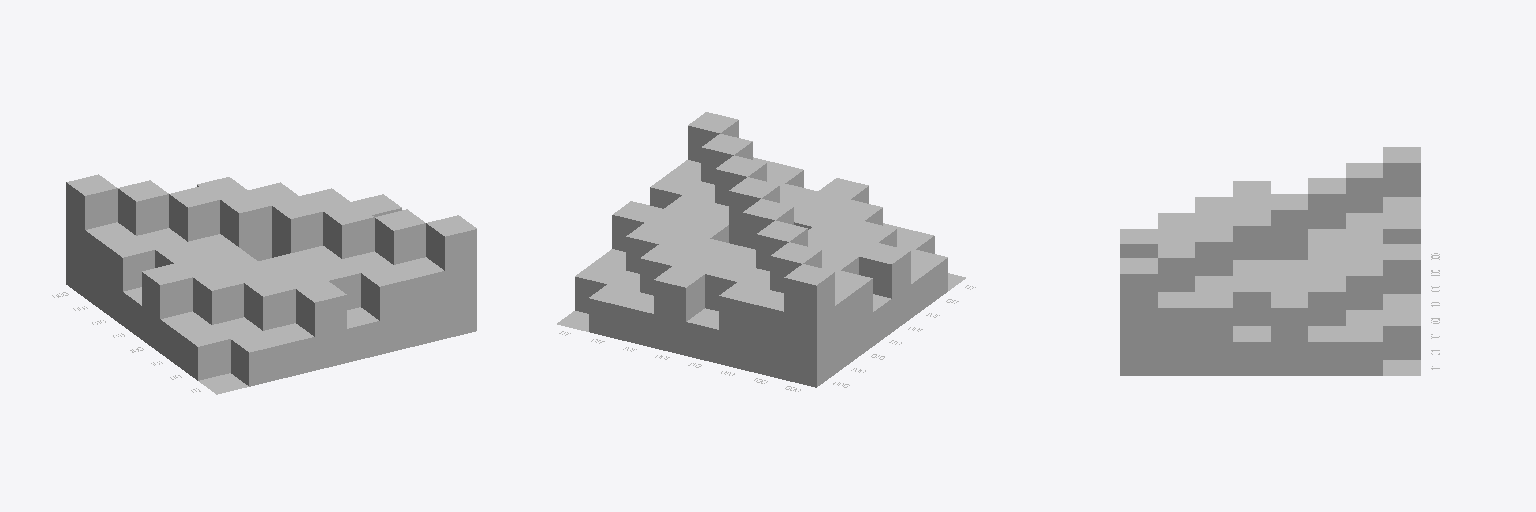
3 renders of one model, left to right at view 1: azimuth 30°, elevation 25°; view 2: azimuth 150°, elevation 25°; view 3: azimuth 270°, elevation 25°, orthographic.
Parts seen in each view (by area): view 1: Object(8,8)[length_3], Object(1,1)[length_3], Object(4,8)[length_2], Object(6,8)[length_2], Object(1,5)[length_2], Object(7,8)[length_2], Object(4,4)[length_3], Object(1,3)[length_2], Object(5,5)[length_3], Object(1,7)[length_1], Object(3,7)[length_2], Object(6,6)[length_3] (+27 smaller); view 2: Object(1,1)[length_3], Object(5,1)[length_2], Object(1,5)[length_2], Object(3,1)[length_2], Object(2,1)[length_2], Object(1,3)[length_2], Object(7,1)[length_1], Object(5,5)[length_3], Object(6,1)[length_1], Object(4,1)[length_1], Object(1,2)[length_2], Object(7,7)[length_3] (+28 smaller); view 3: Object(8,8)[length_3], Object(8,6)[length_2], Object(8,4)[length_2], Object(8,7)[length_2], Object(4,4)[length_3], Object(3,3)[length_3], Object(1,1)[length_3], Object(5,1)[length_2], Object(5,5)[length_3], Object(6,6)[length_3], Object(7,1)[length_1], Object(7,3)[length_2] (+26 smaller).
Boxes of the visible parts, box(x1,y1,x2,y2) form: Object(8,8)[length_3]: box(426, 215, 476, 338); Object(1,1)[length_3]: box(66, 174, 117, 297); Object(4,8)[length_2]: box(296, 281, 346, 370); Object(6,8)[length_2]: box(361, 265, 411, 354); Object(1,5)[length_2]: box(142, 264, 192, 352); Object(7,8)[length_2]: box(394, 257, 444, 346); Object(4,4)[length_3]: box(220, 192, 271, 260); Object(1,3)[length_2]: box(104, 236, 154, 325); Object(5,5)[length_3]: box(272, 198, 322, 257); Object(1,7)[length_1]: box(179, 325, 230, 380); Object(3,7)[length_2]: box(244, 275, 295, 330); Object(6,6)[length_3]: box(323, 204, 374, 258); Object(1,1)[length_3]: box(784, 264, 834, 387); Object(5,1)[length_2]: box(654, 266, 704, 355); Object(1,5)[length_2]: box(859, 243, 910, 331); Object(3,1)[length_2]: box(719, 282, 769, 371); Object(2,1)[length_2]: box(751, 290, 783, 379); Object(1,3)[length_2]: box(835, 270, 872, 359); Object(7,1)[length_1]: box(589, 284, 639, 339); Object(5,5)[length_3]: box(729, 177, 779, 245); Object(6,1)[length_1]: box(621, 292, 653, 347); Object(4,1)[length_1]: box(686, 308, 718, 363); Object(1,2)[length_2]: box(835, 288, 853, 373); Object(7,7)[length_3]: box(701, 134, 752, 184); Object(8,8)[length_3]: box(1120, 258, 1157, 375); Object(8,6)[length_2]: box(1195, 292, 1232, 375); Object(8,4)[length_2]: box(1271, 292, 1307, 375); Object(8,7)[length_2]: box(1158, 292, 1194, 375); Object(4,4)[length_3]: box(1271, 194, 1307, 259); Object(3,3)[length_3]: box(1308, 178, 1345, 228); Object(1,1)[length_3]: box(1383, 147, 1420, 196); Object(5,1)[length_2]: box(1383, 244, 1420, 293); Object(5,5)[length_3]: box(1233, 210, 1270, 259); Object(6,6)[length_3]: box(1195, 226, 1232, 275); Object(7,1)[length_1]: box(1383, 310, 1420, 359); Object(7,3)[length_2]: box(1308, 276, 1345, 325).
Size of the model in its own units: 8.69 by 3 by 8.5.